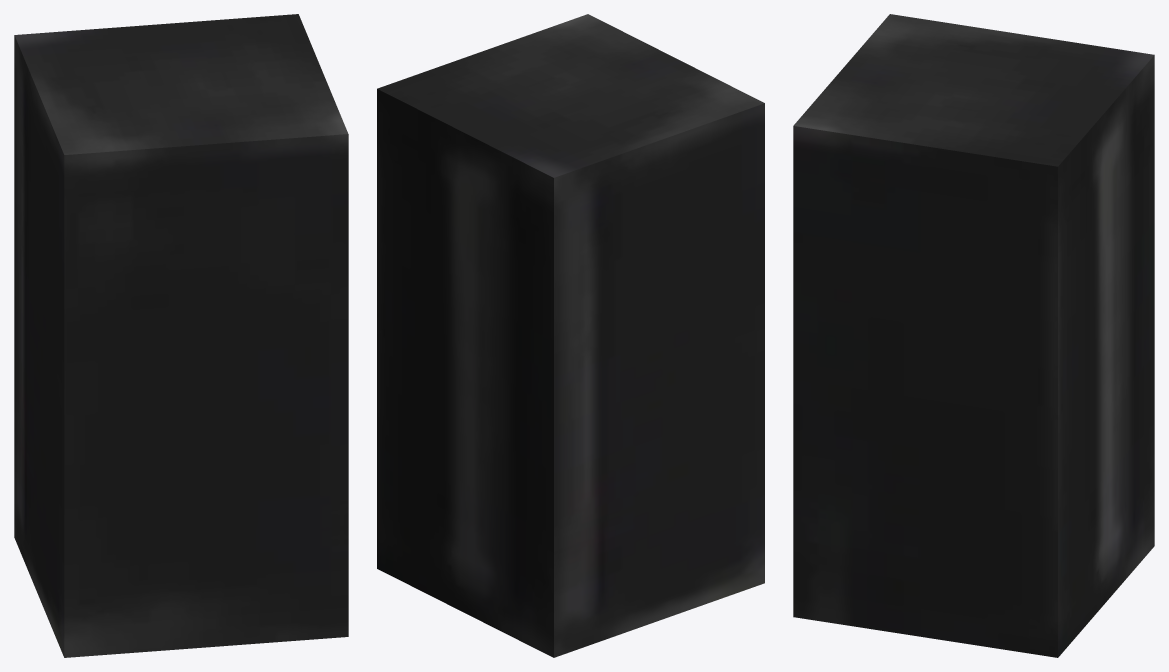
The model's file is center_frame__rack_tooth_0.glb.
3 views of the same model, side by side, from view 1: azimuth 30°, elevation 25°; view 2: azimuth 150°, elevation 25°; view 3: azimuth 270°, elevation 25° (orthographic). The views are drawn at different scales.
Visible parts, largest first — view 1: world; view 2: world; view 3: world.
Boxes of the visible parts, <box> form: world: <box>14,14,348,657</box>; world: <box>377,14,764,657</box>; world: <box>793,14,1154,657</box>.
Bounding box in the file's own units: 0.0333 × 0.05 × 0.0333.
1 material, 1 textured.
